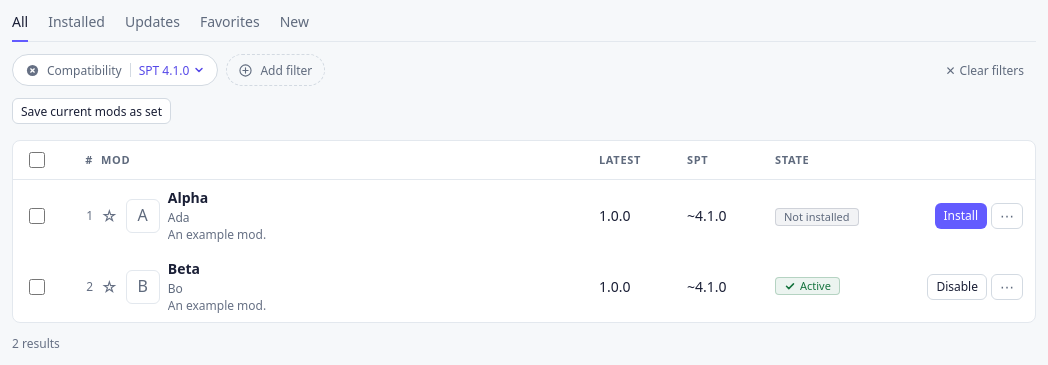
Scenario: quick tabs › narrows the rows to the installed mods and marks the tab as the current one
The image size is (1048, 365).
Expected: the checkbox named "Select Alpha" is shown, [29, 208, 45, 224]
Click the button "Installed" at (77, 27), box [48, 12, 105, 42]
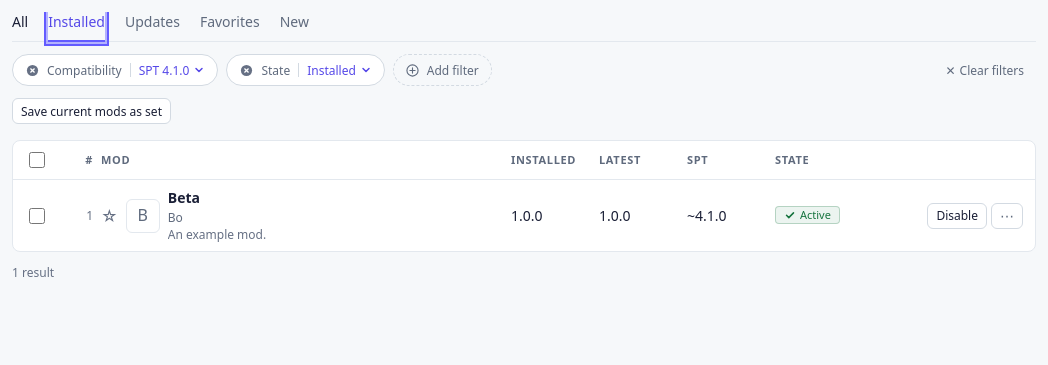
Now the text "1 result" is shown, box [12, 264, 54, 281]
